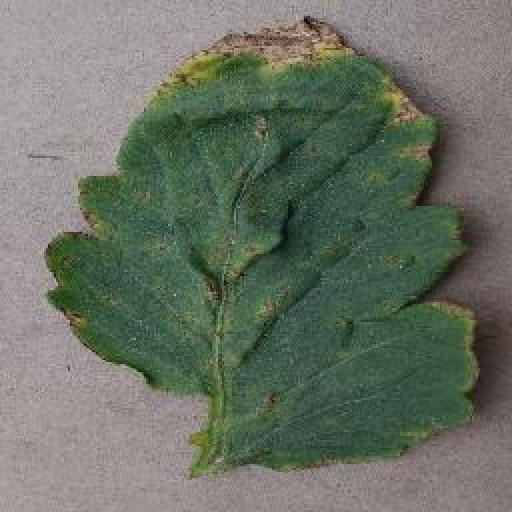Bacterial Spot: (43, 16, 485, 476)
